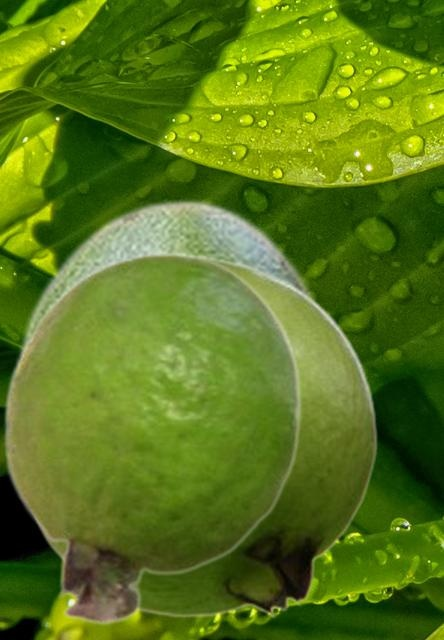guava: (31, 254, 377, 618), (3, 250, 302, 625), (16, 197, 325, 355)
